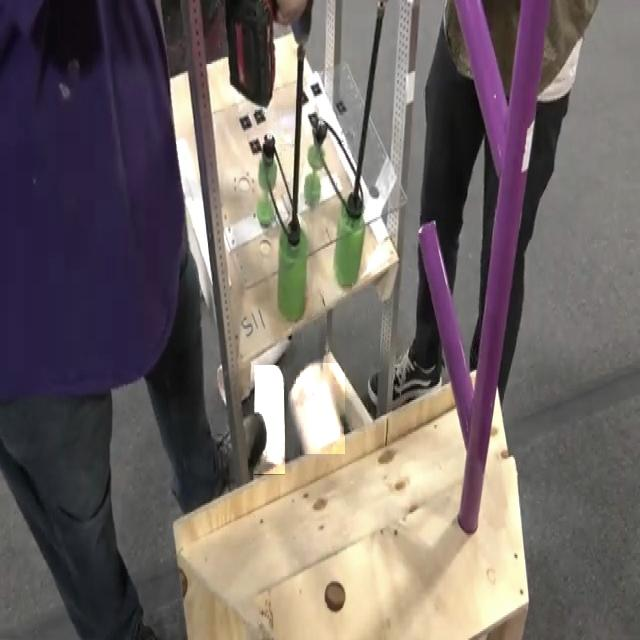Coral: (290, 363, 345, 454), (254, 366, 285, 476)
